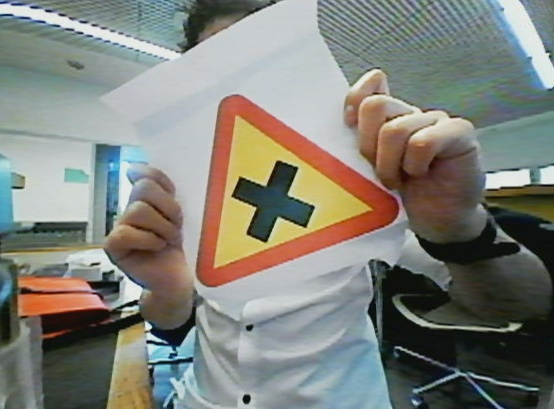junction: (186, 88, 428, 277)
